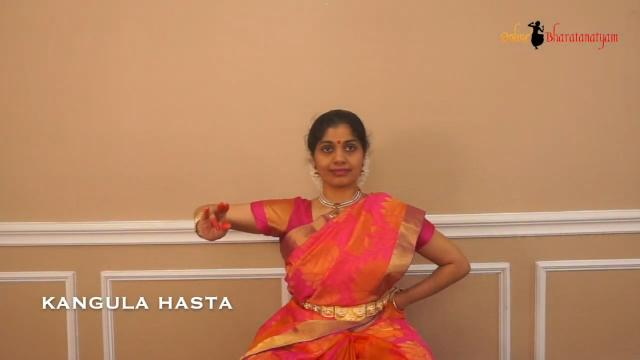kangul: (181, 186, 249, 255)
